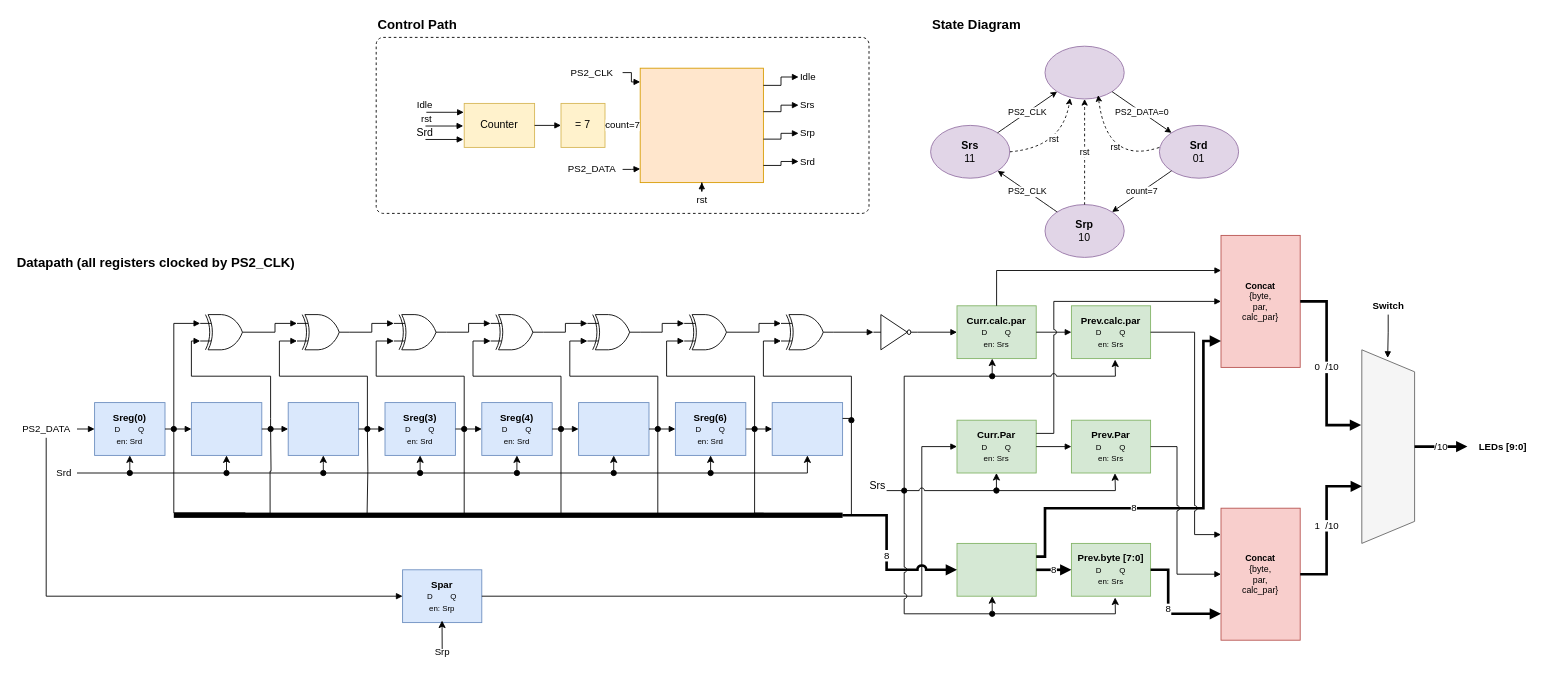
The diagram is 1552 pixels wide and 675 high, and some of its shapes have lost their labels. The centre of each missing label's shape, as x and y in pixels:
Control State Machine: the point at 701,125
Curr.byte [7:0] D Q en: Srs: the point at 996,569
Idle 00: the point at 1084,72
MUX: the point at 1388,446
Sreg(1) D Q en: Srd: the point at 226,428
Sreg(2) D Q en: Srd: the point at 323,428
Sreg(5) D Q en: Srd: the point at 613,428
Sreg(7) D Q en: Srd: the point at 807,428
